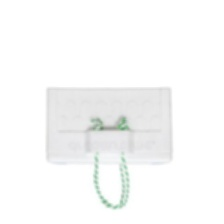foam_box: (38, 81, 179, 213)
